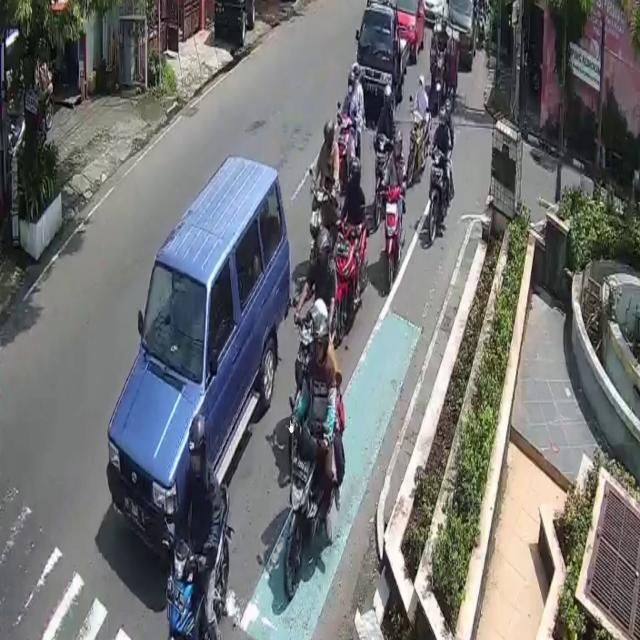car: (107, 148, 290, 565), (354, 1, 411, 113), (448, 1, 480, 69), (390, 0, 426, 60)
motorbike: (164, 482, 238, 640), (285, 413, 342, 600), (333, 213, 368, 338), (428, 144, 453, 248), (408, 102, 434, 182), (384, 175, 403, 283), (307, 182, 328, 258), (336, 110, 353, 184)
